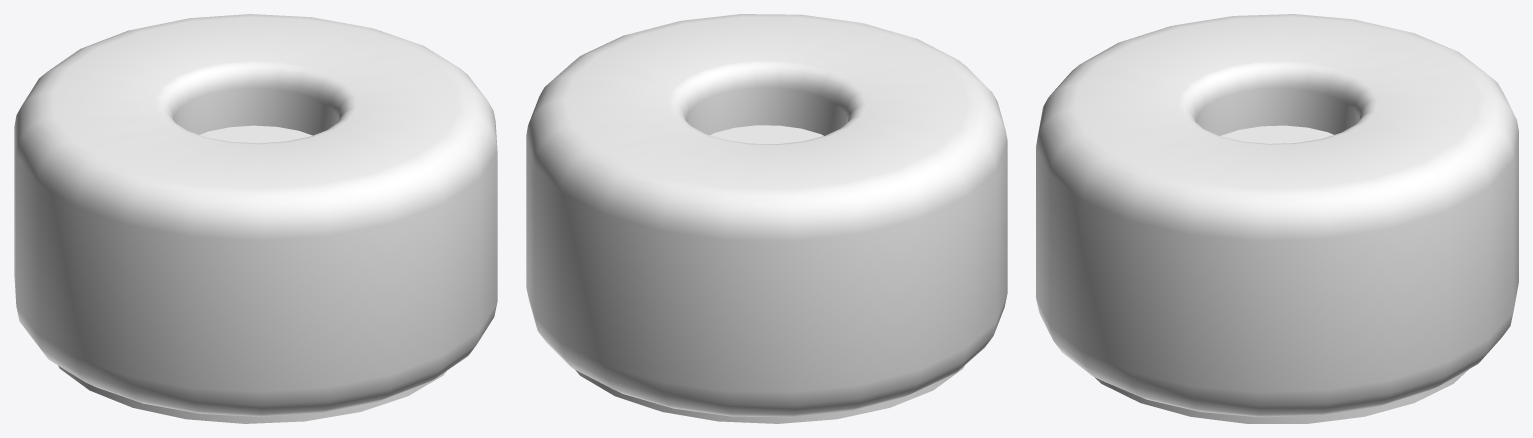
Rendered from Pin Model 1_Or.fbx.
3 views of the same model, side by side, from view 1: azimuth 30°, elevation 25°; view 2: azimuth 150°, elevation 25°; view 3: azimuth 270°, elevation 25° (orthographic).
Visible parts, largest first — view 1: Pin Specular, Cylinder.026_0; view 2: Pin Specular, Cylinder.026_0; view 3: Pin Specular, Cylinder.026_0.
Boxes of the visible parts, box(x1,y1,x2,y2) form: Pin Specular: box(14, 14, 497, 416); Cylinder.026_0: box(58, 365, 446, 423); Pin Specular: box(526, 14, 1007, 417); Cylinder.026_0: box(575, 365, 964, 423); Pin Specular: box(1036, 14, 1518, 417); Cylinder.026_0: box(1094, 369, 1468, 423).
Bounding box in the file's own units: 0.5768 × 0.3064 × 0.5768.
Materials: 2 (1 with a texture image).
